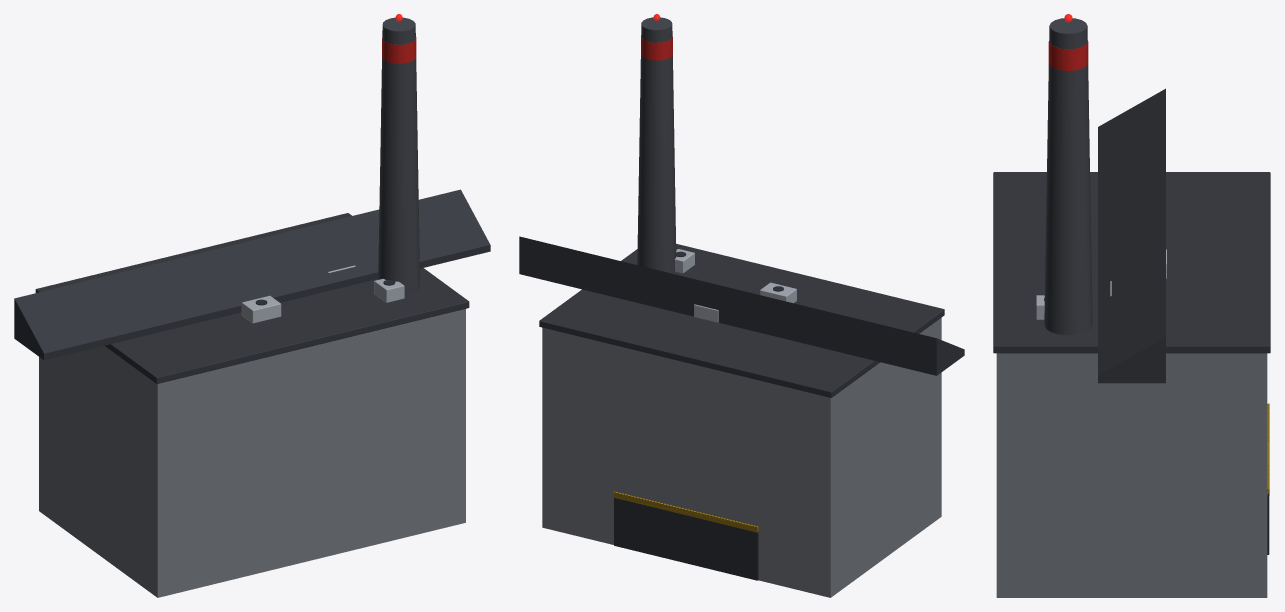
The model's file is building_d.glb.
3 views of the same model, side by side, from view 1: azimuth 30°, elevation 25°; view 2: azimuth 150°, elevation 25°; view 3: azimuth 270°, elevation 25° (orthographic). The views are drawn at different scales.
Parts seen in each view (by area): view 1: BuildingD; view 2: BuildingD; view 3: BuildingD.
Part boxes in pixels (box(x1,y1,x2,y2)): BuildingD: box(14, 14, 490, 597); BuildingD: box(519, 14, 964, 597); BuildingD: box(993, 14, 1270, 597).
Bounding box in the file's own units: 27.8 × 29.4 × 13.1.
5 materials, 1 textured.
